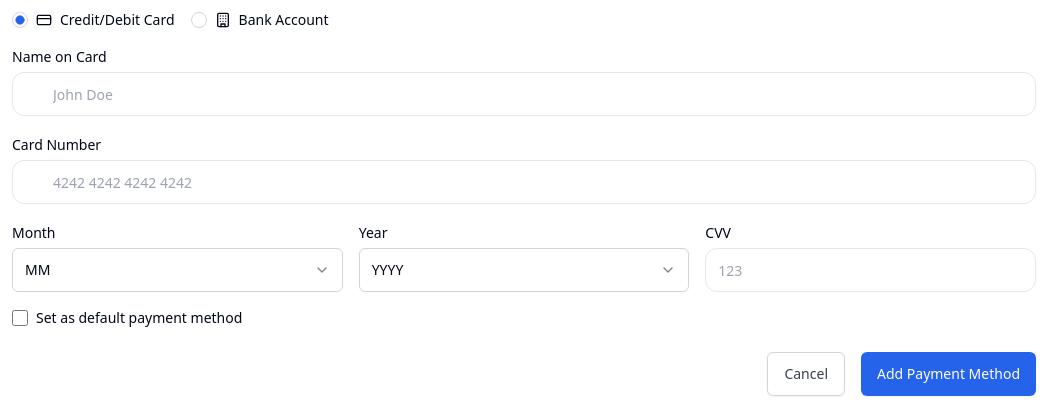
Test case: PaymentMethodForm Component › Form Interactions - Card › only allows digits in card number
Type "4242abc4242" into the field labelled "Card Number".
click(524, 182); type("4242abc4242")  # box left=12, top=160, right=1036, bottom=204
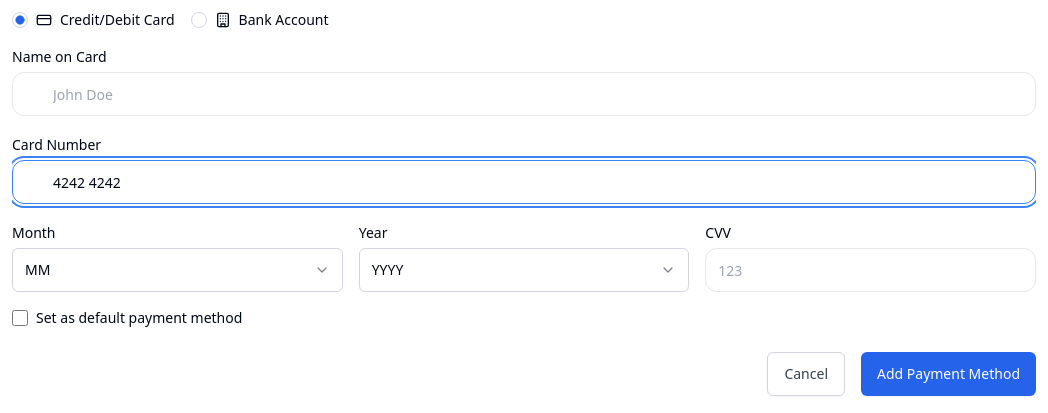
Expected: the field labelled "Card Number" holds "4242 4242", left=12, top=160, right=1036, bottom=204
